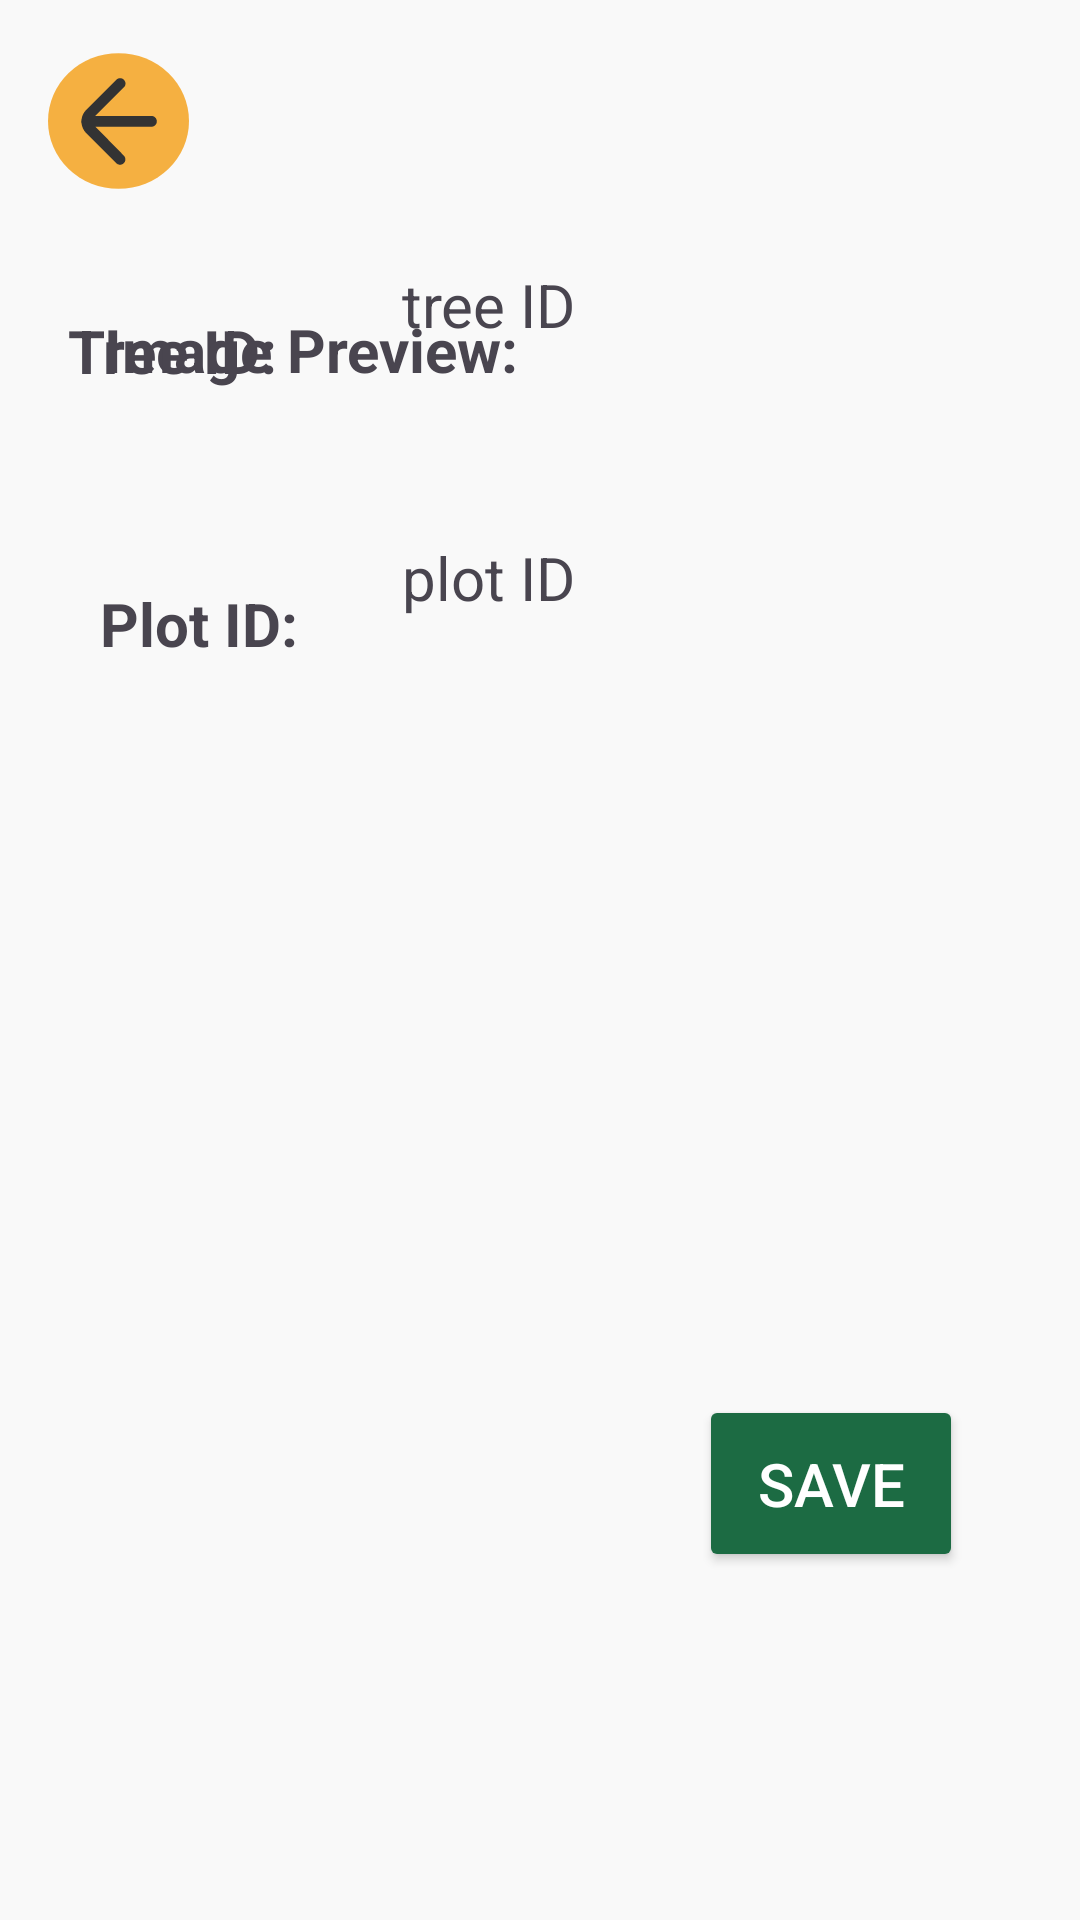

Where icons sit on this 1080*1920 app screen, as (x1, y1, x2, y2):
back arrow: (48, 53, 189, 189)
